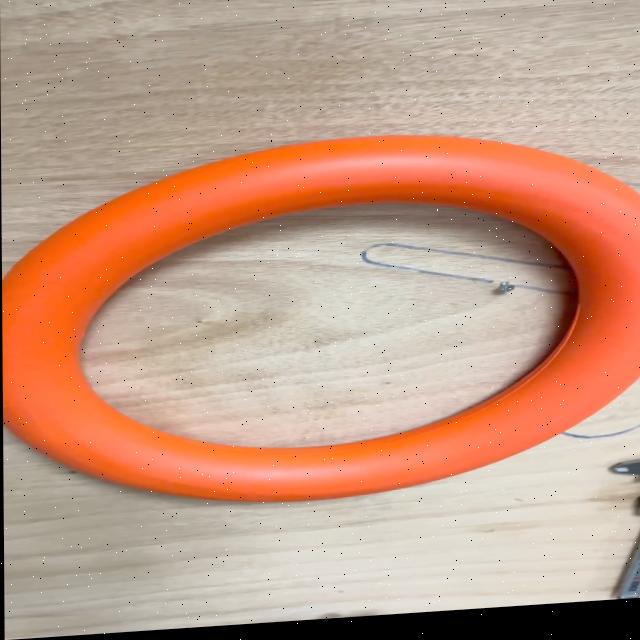note: (4, 125, 640, 523)
